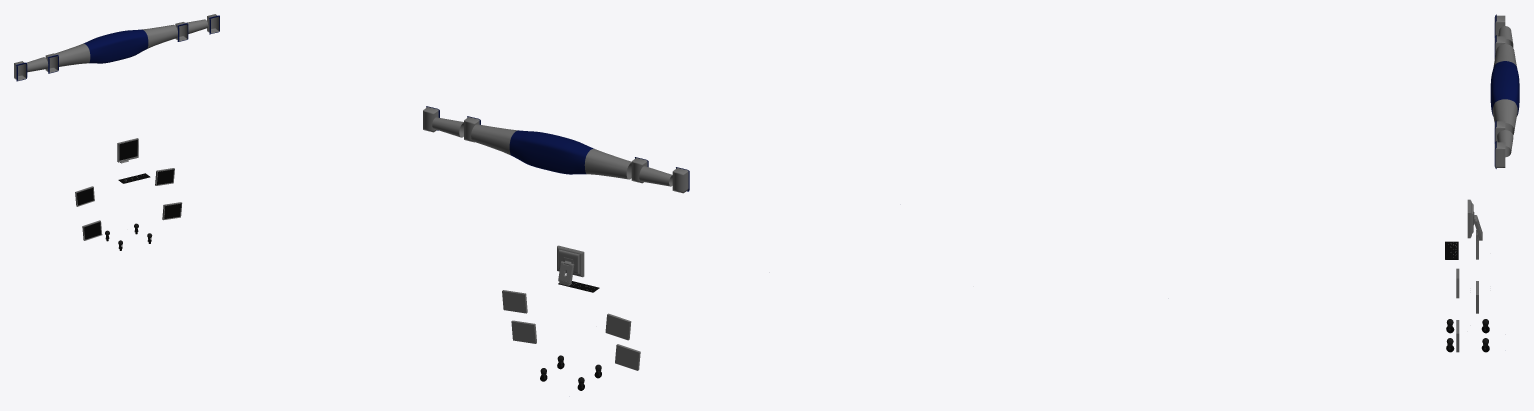
File: Shod_razval_3ddd.fbx
The picture shows the model from 3 angles, left to right: view 1: azimuth 30°, elevation 25°; view 2: azimuth 150°, elevation 25°; view 3: azimuth 270°, elevation 25°; orthographic projection. The views are drawn at different scales.
Visible parts, largest first — view 1: meshes[49]-340, meshes[49]-143, meshes[49]-311; view 2: meshes[49]-340, obj_04, meshes[49]-143, meshes[49]-311, obj_33, obj_35, obj_27, obj_31; view 3: meshes[49]-340.
Boxes of the visible parts, box(x1,y1,x2,y2) form: meshes[49]-340: box(27, 19, 208, 72); meshes[49]-143: box(84, 33, 119, 63); meshes[49]-311: box(111, 30, 136, 60); meshes[49]-340: box(432, 117, 672, 186); obj_04: box(557, 246, 582, 285); meshes[49]-143: box(546, 135, 587, 174); meshes[49]-311: box(516, 131, 556, 169); obj_33: box(615, 344, 640, 370); obj_35: box(605, 313, 631, 340); obj_27: box(502, 290, 527, 313); obj_31: box(511, 320, 536, 343); meshes[49]-340: box(1495, 26, 1515, 157).
Size of the model in its own units: 3660 by 3393 by 6654.
